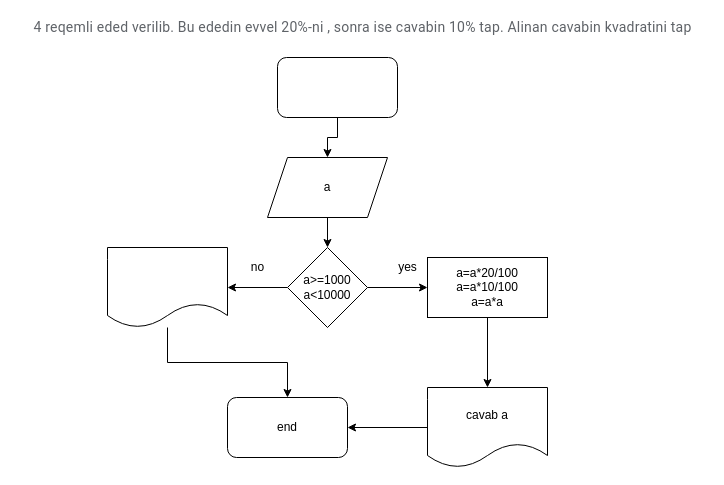
This 724x485 diagram has some shape labels left out. The shapes that lost their labels are listed below. From the top down, each one's box as (x1, y1, x2, y2) in pixels, then its label:
(276, 56, 398, 118): start
(106, 246, 228, 328): eded 4 reqemli deyil
